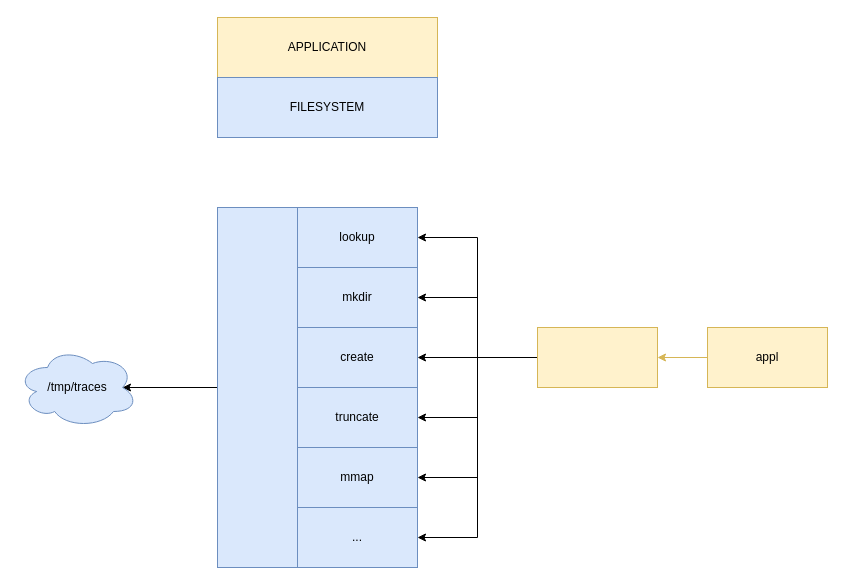
The diagram is 845 pixels wide and 585 high, and some of its shapes have lost their labels. Here are the shapes that lost their labels. From the top down, the centre of each, then its label:
(x=597, y=357): libcltk
(x=257, y=387): VFS
